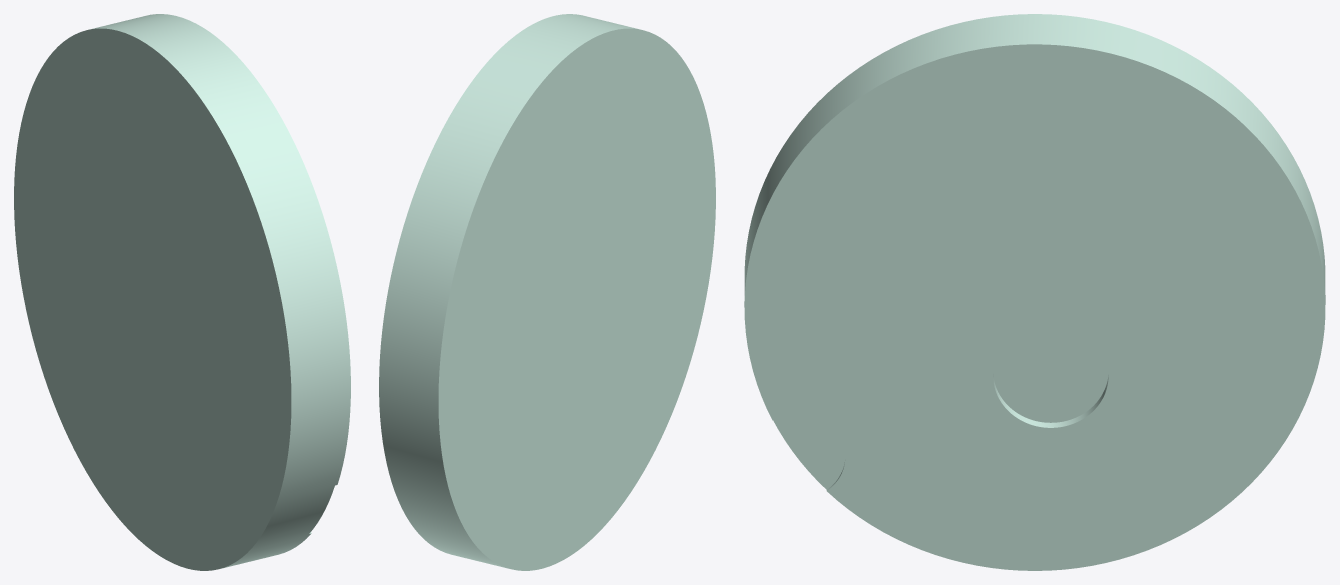
3 views of the same model, side by side, from view 1: azimuth 30°, elevation 25°; view 2: azimuth 150°, elevation 25°; view 3: azimuth 270°, elevation 25° (orthographic). The views are drawn at different scales.
Visible parts, largest first — view 1: Renderer Node; view 2: Renderer Node; view 3: Renderer Node.
Boxes of the visible parts, x1=… form: Renderer Node: x1=14, y1=14, x2=350, y2=570; Renderer Node: x1=379, y1=14, x2=715, y2=570; Renderer Node: x1=744, y1=14, x2=1325, y2=570.
Size of the model in its own units: 0.1875 by 1.52 by 1.52.
